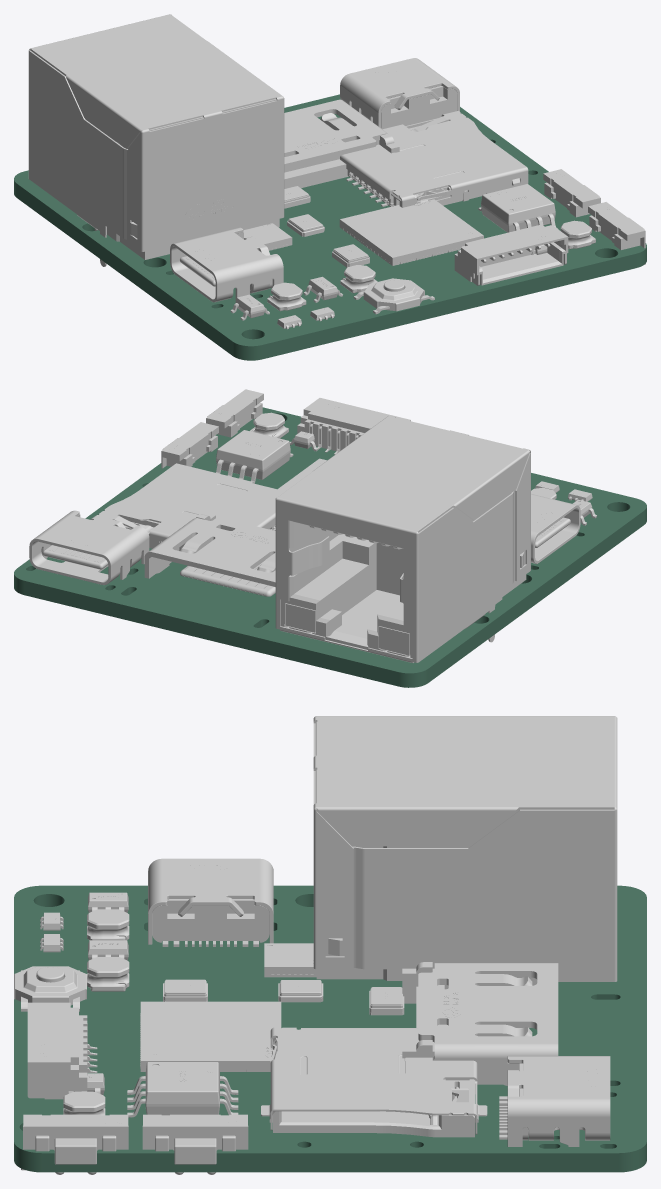
The model's file is openkvm-pcb-preplacement.glb.
The picture shows the model from 3 angles, top to bottom: view 1: azimuth 30°, elevation 25°; view 2: azimuth 150°, elevation 25°; view 3: azimuth 270°, elevation 25°; orthographic projection. The views are drawn at different scales.
Visible parts, largest first — view 1: J4, =>[0:1:1:17], J5, J3, J1, J2, U1, J7, U7, SW2, SW3, SW1 (+8 smaller); view 2: J4, =>[0:1:1:17], J5, J3, J1, J7, U7, J2, SW1, SW2, L3; view 3: J4, =>[0:1:1:17], J5, J3, J2, J1, U1, J7, U7, SW1, SW2, SW3 (+9 smaller).
Part boxes in pixels (left/top/right/bottom): J4: left=28, top=14, right=284, bottom=266; =>[0:1:1:17]: left=14, top=94, right=646, bottom=360; J5: left=340, top=110, right=528, bottom=207; J3: left=284, top=99, right=402, bottom=188; J1: left=340, top=58, right=459, bottom=128; J2: left=170, top=227, right=283, bottom=302; U1: left=339, top=199, right=483, bottom=265; J7: left=454, top=224, right=568, bottom=285; U7: left=478, top=184, right=557, bottom=232; SW2: left=588, top=202, right=645, bottom=264; SW3: left=353, top=278, right=434, bottom=314; SW1: left=543, top=169, right=600, bottom=217; J4: left=275, top=415, right=530, bottom=662; =>[0:1:1:17]: left=14, top=407, right=646, bottom=687; J5: left=96, top=463, right=284, bottom=550; J3: left=144, top=513, right=275, bottom=596; J1: left=29, top=510, right=149, bottom=584; J7: left=297, top=398, right=410, bottom=454; U7: left=216, top=430, right=293, bottom=483; J2: left=531, top=494, right=580, bottom=563; SW1: left=161, top=422, right=218, bottom=468; SW2: left=206, top=389, right=263, bottom=437; L3: left=250, top=412, right=288, bottom=438; J4: left=313, top=716, right=617, bottom=981; =>[0:1:1:17]: left=14, top=885, right=646, bottom=1172; J5: left=261, top=1027, right=487, bottom=1137; J3: left=402, top=962, right=558, bottom=1085; J2: left=148, top=858, right=273, bottom=946; J1: left=499, top=1056, right=610, bottom=1146; U1: left=140, top=1001, right=281, bottom=1071; J7: left=27, top=1002, right=97, bottom=1099; U7: left=127, top=1062, right=238, bottom=1117; SW1: left=142, top=1114, right=248, bottom=1174; SW2: left=21, top=1114, right=128, bottom=1174; SW3: left=14, top=966, right=86, bottom=1011.
Bounding box in the file's own units: 0.0456 × 0.0191 × 0.045.
